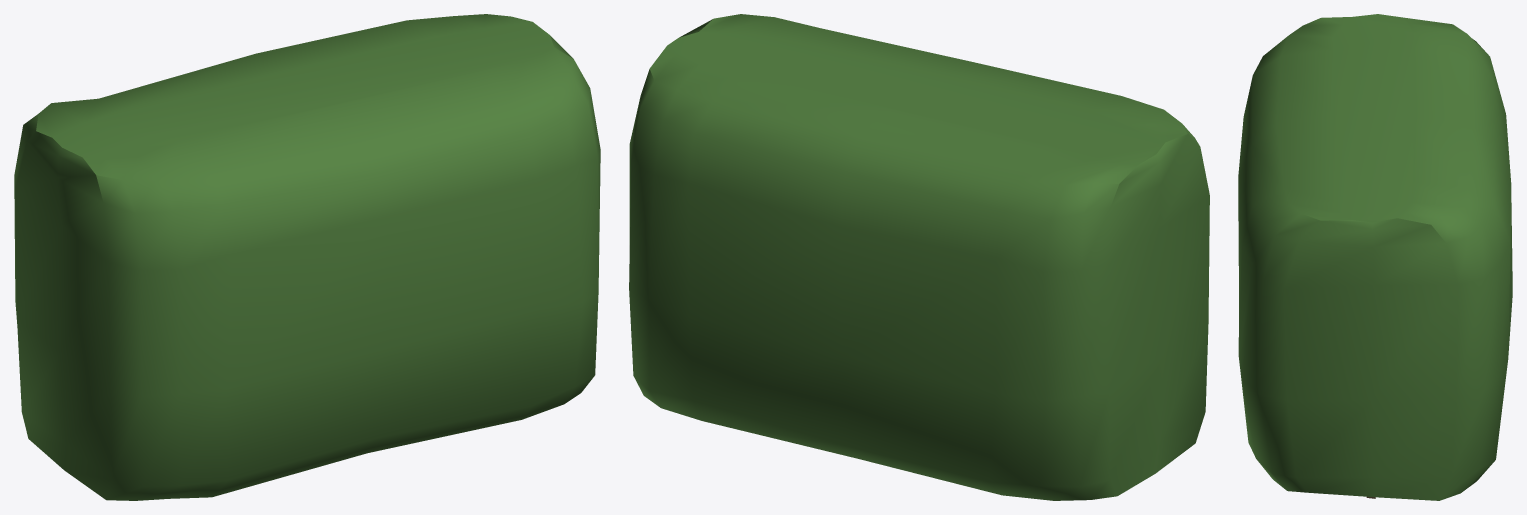
File: streetHedge.far.glb
3 renders of one model, left to right at view 1: azimuth 30°, elevation 25°; view 2: azimuth 150°, elevation 25°; view 3: azimuth 270°, elevation 25°, orthographic. The views are drawn at different scales.
Visible parts, largest first — view 1: hedge; view 2: hedge; view 3: hedge.
Boxes of the visible parts, left/top/right/bottom form: hedge: left=14, top=14, right=600, bottom=500; hedge: left=629, top=14, right=1209, bottom=500; hedge: left=1238, top=14, right=1512, bottom=500.
Size of the model in its own units: 1.55 by 1.02 by 0.85.
